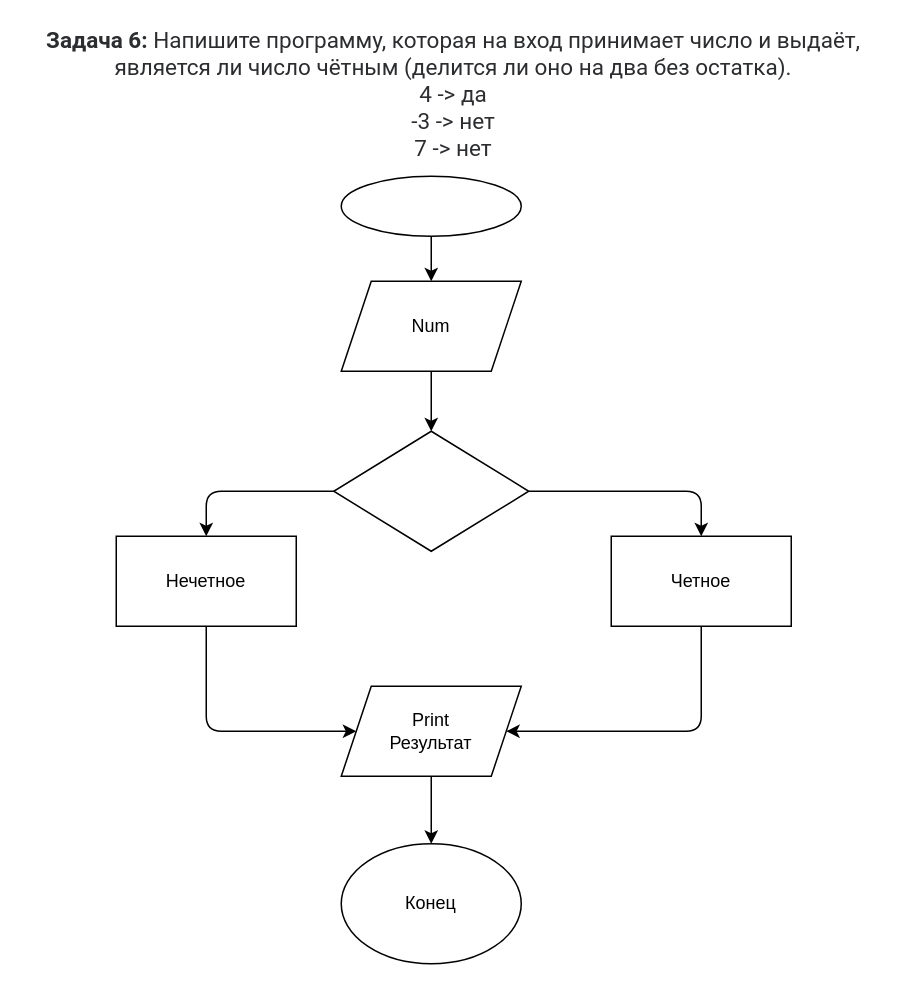
The diagram is 906 pixels wide and 990 high, and some of its shapes have lost their labels. The centre of each missing label's shape, as x and y in pixels:
Num % 2 == 0: point (430, 490)
Начало: point (430, 205)
